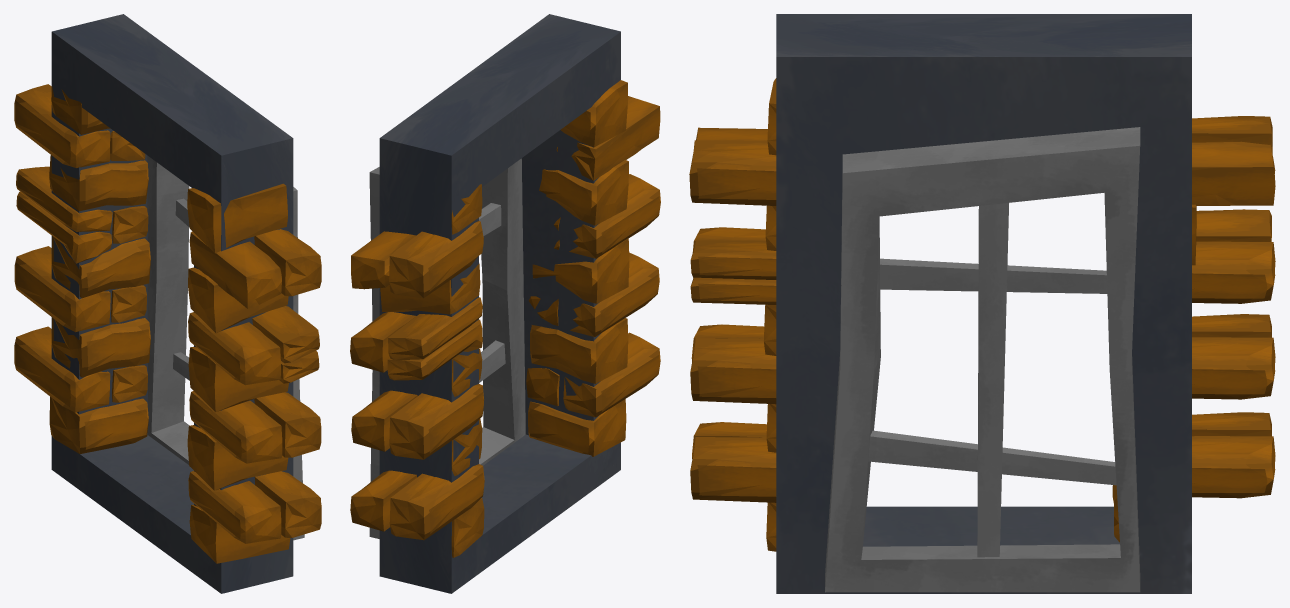
The model's file is window-1.fbx.
3 renders of one model, left to right at view 1: azimuth 30°, elevation 25°; view 2: azimuth 150°, elevation 25°; view 3: azimuth 270°, elevation 25°, orthographic. The views are drawn at different scales.
Parts seen in each view (by area): view 1: Cube.003; view 2: Cube.003; view 3: Cube.003.
Boxes of the visible parts, <box> form: Cube.003: <box>14,14,321,593</box>; Cube.003: <box>350,14,660,593</box>; Cube.003: <box>689,14,1275,593</box>.
Size of the model in its own units: 18.28 by 67.55 by 66.81.
